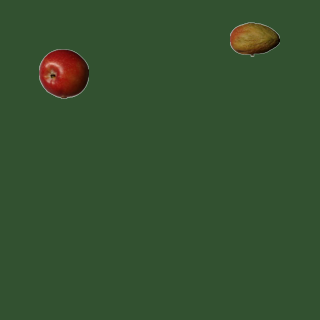Apple Braeburn: (38, 48, 88, 98)
Papaya: (229, 14, 279, 64)
